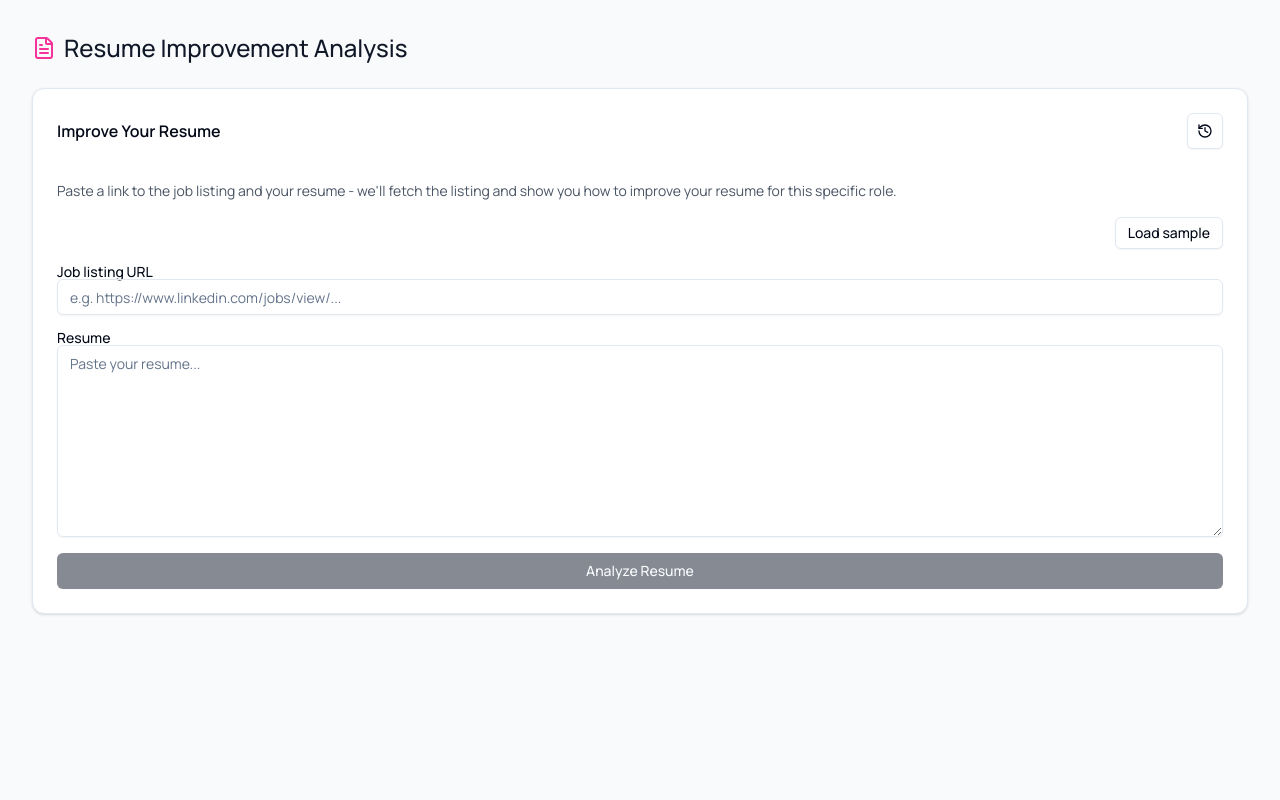
Test: Resume Improvement Analysis page › surfaces an API error message without crashing
Type "https://example.com/jobs/123" into the field labelled "Job listing URL" at (640, 297), box [57,279,1223,315]
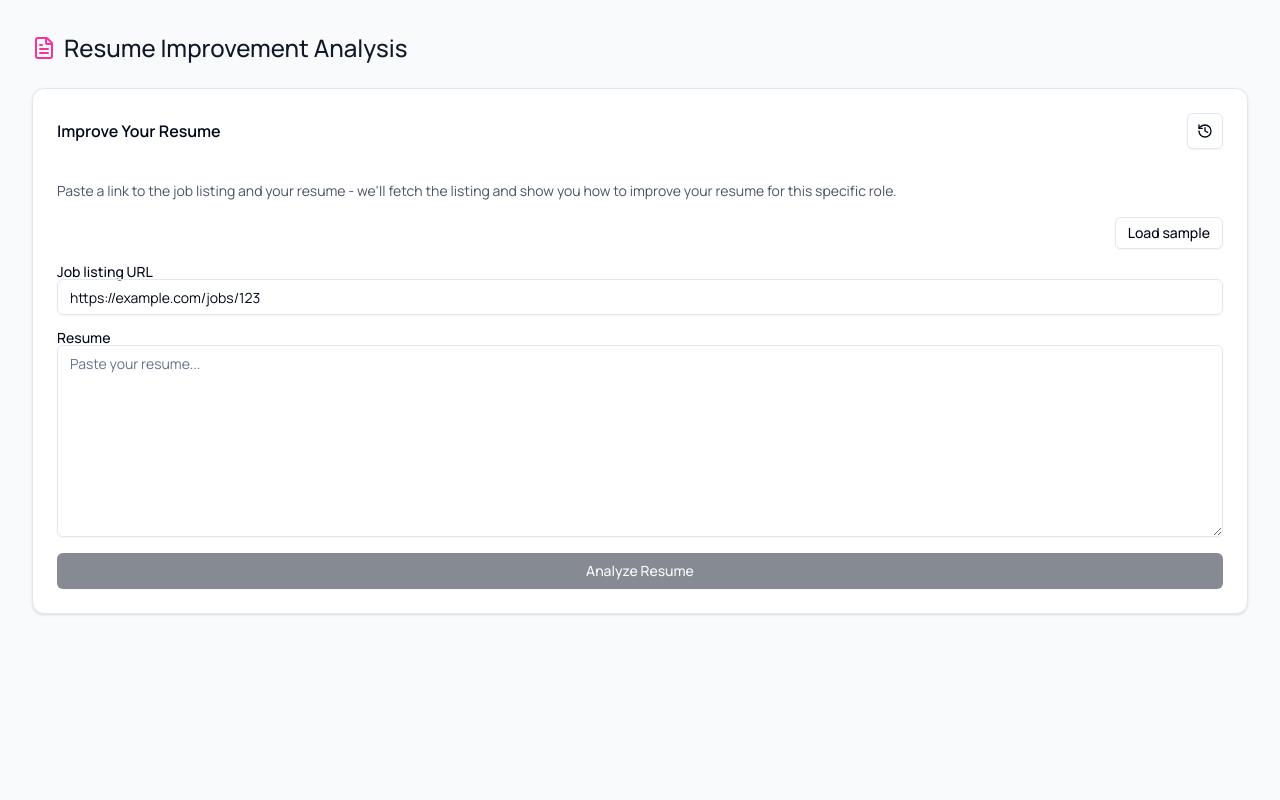
Type "Jane Doe, 6 years experience." into the text box labelled "Resume" at (640, 441), box [57,345,1223,537]
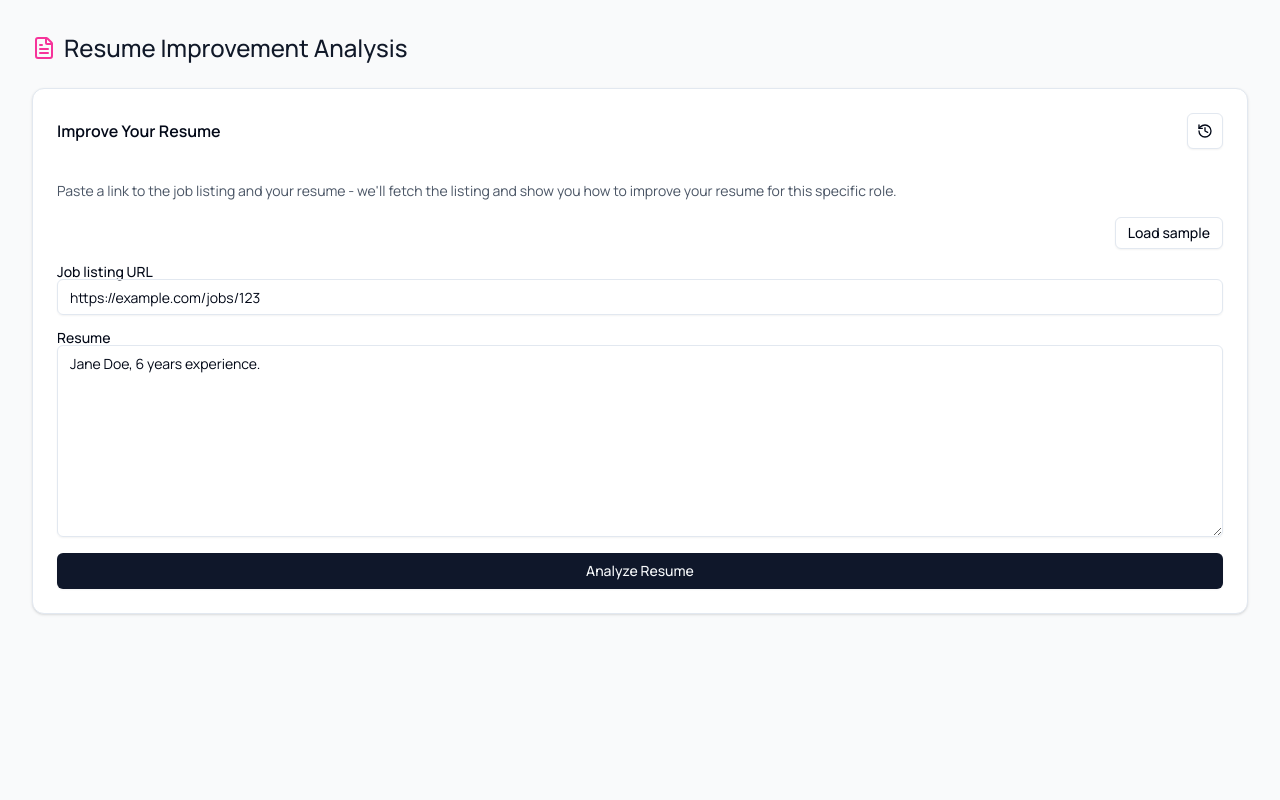
Click the button "Analyze Resume" at (640, 571), box [57,553,1223,589]
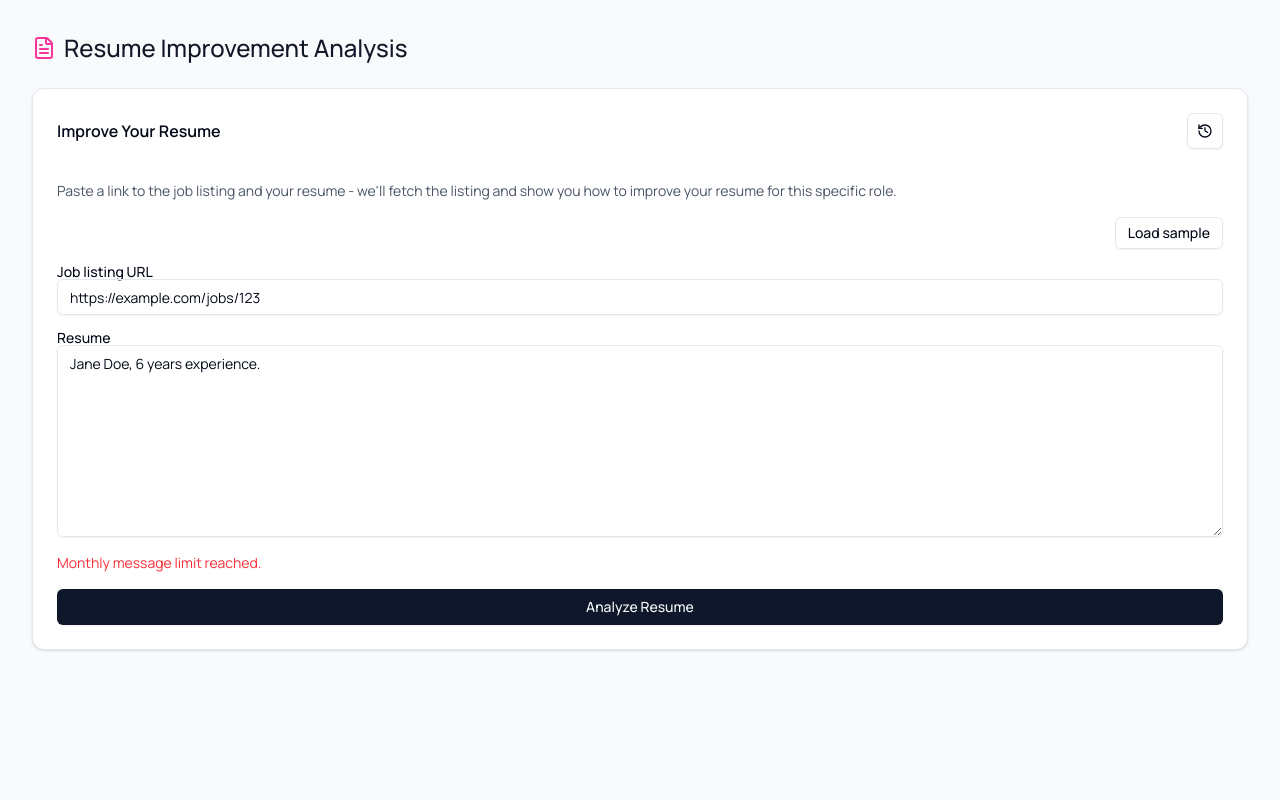
Expected: the text "Monthly message limit reached." is shown, [57,553,261,572]
